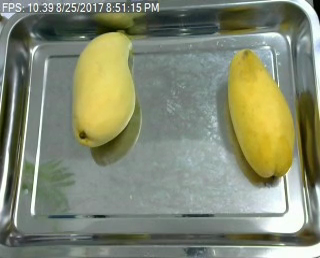Mango: (219, 40, 299, 188), (69, 29, 135, 149)
